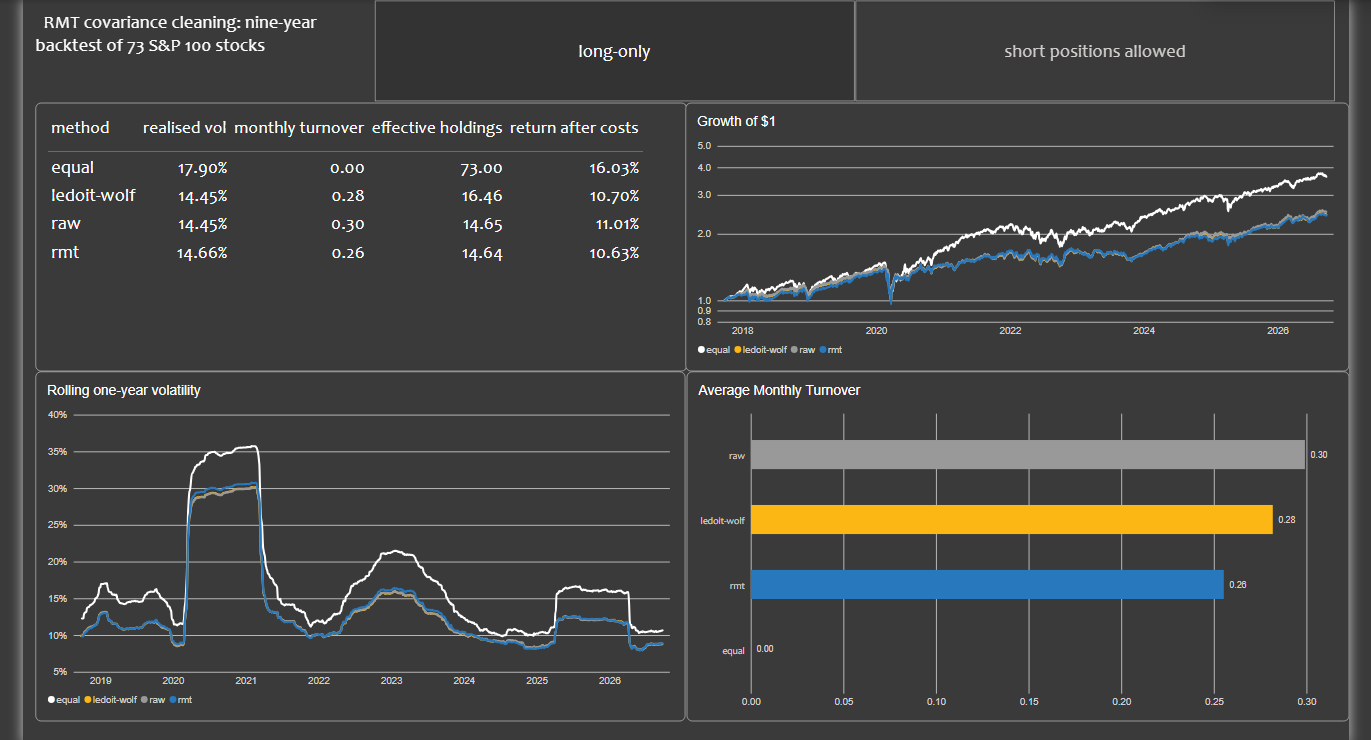

What the dashboard file says about the page in this screenshot:
{"tool":"powerbi","page":{"name":"Page 1","canvas":[1920,1080],"ordinal":0},"visuals":[{"type":"slicer","fields":{"Values":["Portfolio.portfolio"]},"box":[488.6,0,1429.6,150.2],"z":0},{"type":"tableEx","fields":{"Values":["summary.method","Sum(summary.realised vol)","Sum(summary.monthly turnover)","Sum(summary.effective holdings)","Sum(summary.return after costs)"]},"box":[18.1,150.2,942.8,389.1],"z":1},{"type":"lineChart","title":"Growth of $1","fields":{"Category":["daily.date"],"Series":["daily.method"],"Y":["Sum(daily.growth of $1)"]},"box":[959.1,150.2,960.9,389.1],"z":2},{"type":"lineChart","title":"Rolling one-year volatility ","fields":{"Category":["daily.date"],"Series":["daily.method"],"Y":["Sum(daily.rolling vol)"]},"box":[18.1,539.3,941,506.7],"z":3},{"type":"clusteredBarChart","title":"Average Monthly Turnover","fields":{"Category":["rebalances.method"],"Y":["Avg(rebalances.turnover)"]},"box":[960.9,539.3,959.1,506.7],"z":4},{"type":"textbox","box":[18.1,0,472.3,150.2],"z":5}]}

Visuals, with their boxes in screenshot pixels (x1, y1, x2, y2):
slicer - Portfolio.portfolio: left=349, top=0, right=1349, bottom=98
tableEx - summary.method x Sum(summary.realised vol): left=20, top=98, right=679, bottom=370
"Growth of $1" lineChart: left=678, top=98, right=1350, bottom=370
"Rolling one-year volatility " lineChart: left=20, top=370, right=678, bottom=725
"Average Monthly Turnover" clusteredBarChart: left=679, top=370, right=1350, bottom=725
textbox: left=20, top=0, right=350, bottom=98
